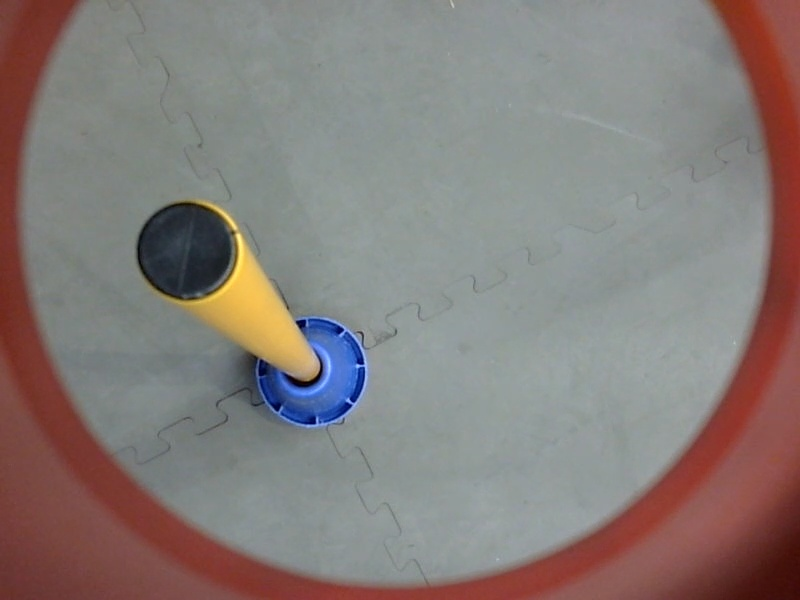tip: (133, 194, 245, 308)
